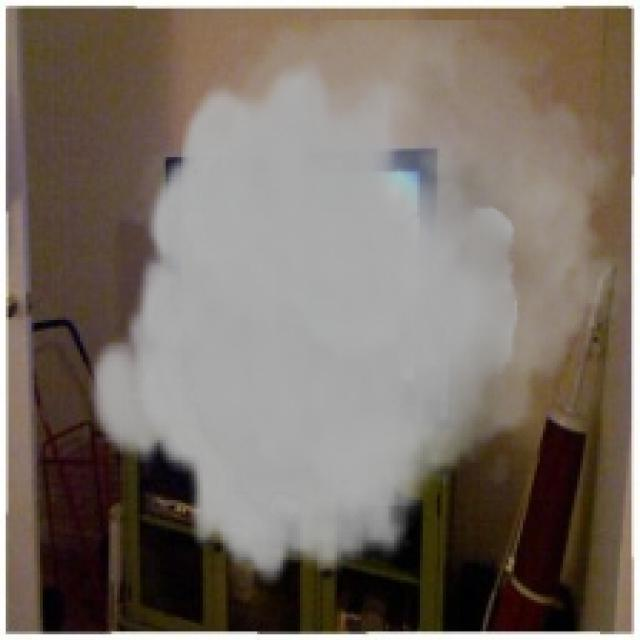Smoke: (85, 20, 638, 586)
